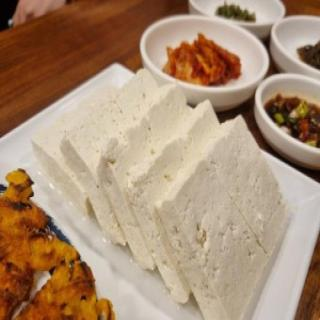Tahu: (31, 70, 292, 320)
